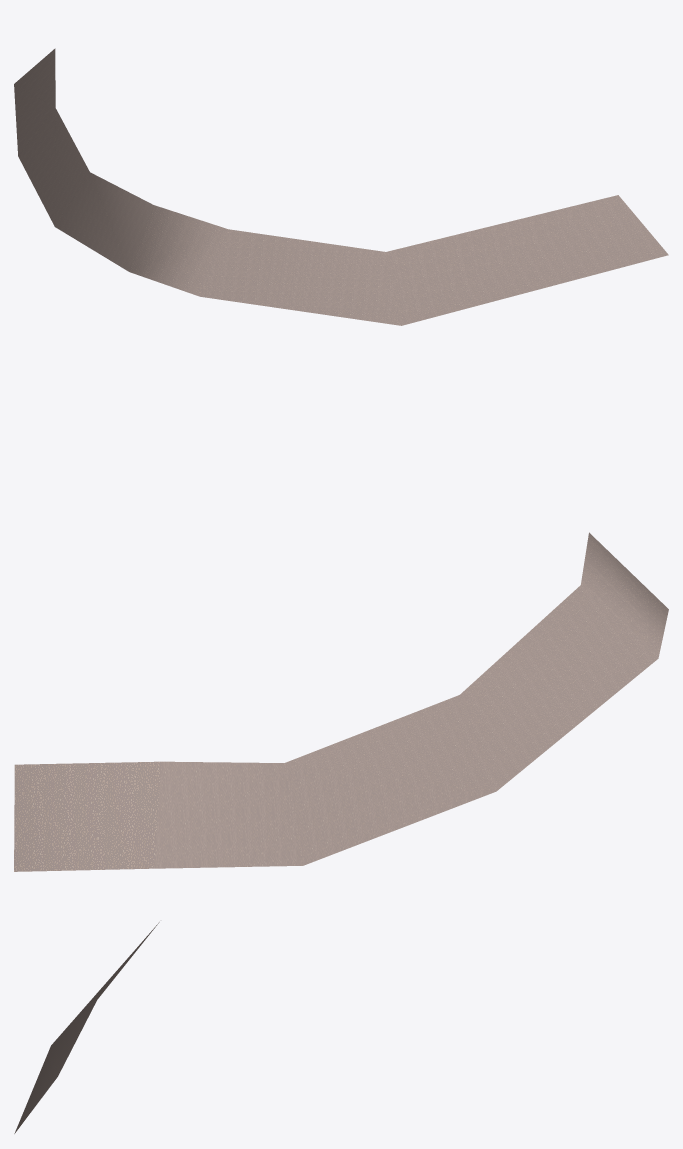
Rendered from kd_stage_1363c5_6_24.glb.
3 renders of one model, top to bottom at view 1: azimuth 30°, elevation 25°; view 2: azimuth 150°, elevation 25°; view 3: azimuth 270°, elevation 25°, orthographic. The views are drawn at different scales.
Parts seen in each view (by area): view 1: kd_stage_1363c5_6_24; view 2: kd_stage_1363c5_6_24; view 3: kd_stage_1363c5_6_24.
Part boxes in pixels (<box>): kd_stage_1363c5_6_24: <box>14,48,668,325</box>; kd_stage_1363c5_6_24: <box>14,532,668,871</box>; kd_stage_1363c5_6_24: <box>14,922,159,1133</box>.
Bounding box in the file's own units: 142 × 26.4 × 200.
Materials: 1 (1 with a texture image).
